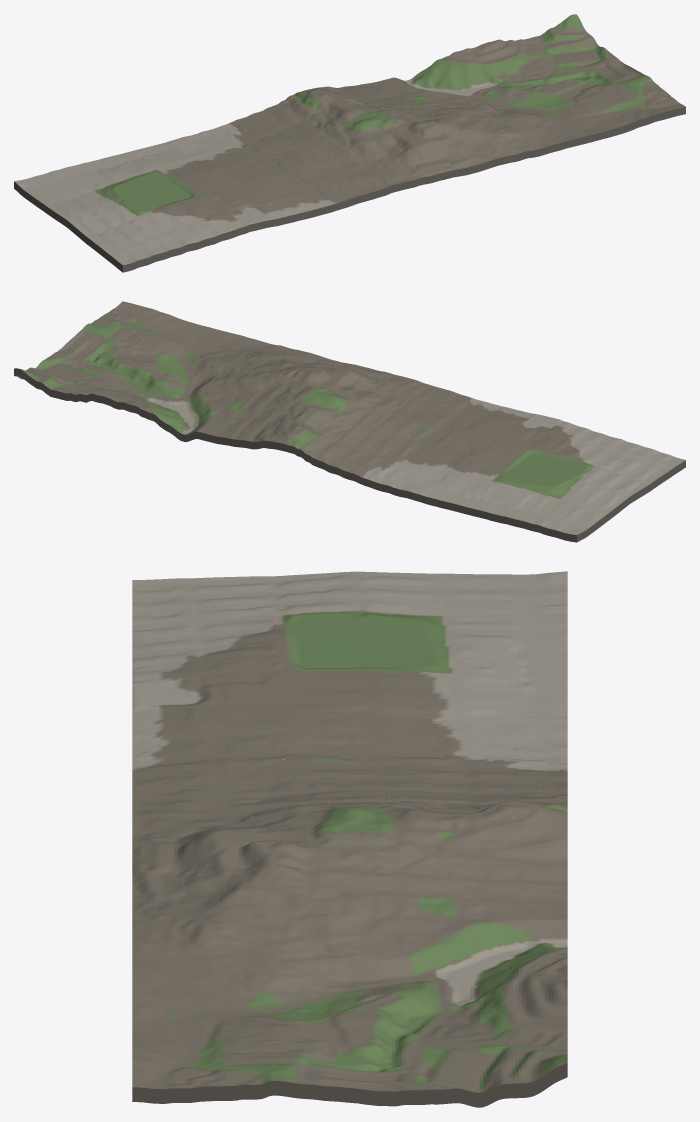
File: terrain_1_4.glb
The picture shows the model from 3 angles, top to bottom: view 1: azimuth 30°, elevation 25°; view 2: azimuth 150°, elevation 25°; view 3: azimuth 270°, elevation 25°; orthographic projection. The views are drawn at different scales.
Visible parts, largest first — view 1: terrain_1_4; view 2: terrain_1_4; view 3: terrain_1_4.
Boxes of the visible parts, x1,y1,x2,y2 form: terrain_1_4: (14,14,685,272); terrain_1_4: (14,301,685,542); terrain_1_4: (132,571,567,1107).
Bounding box in the file's own units: 3200 × 229 × 1072.
